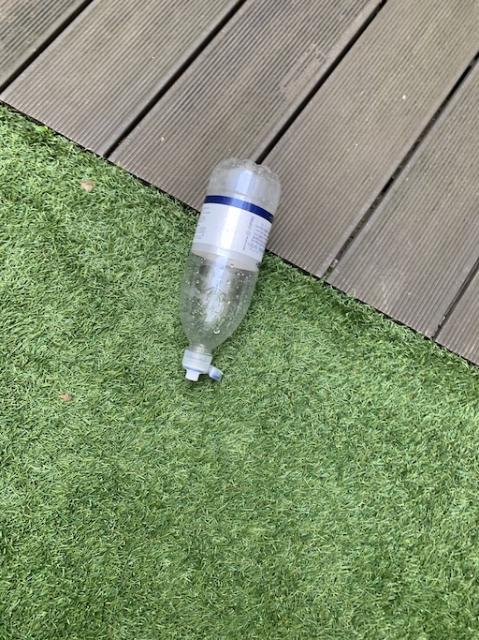plastic: (179, 157, 279, 380)
